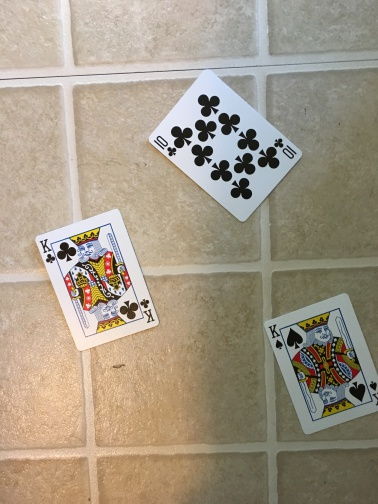king: (35, 209, 160, 352), (261, 292, 378, 435)
ten: (145, 68, 303, 225)
